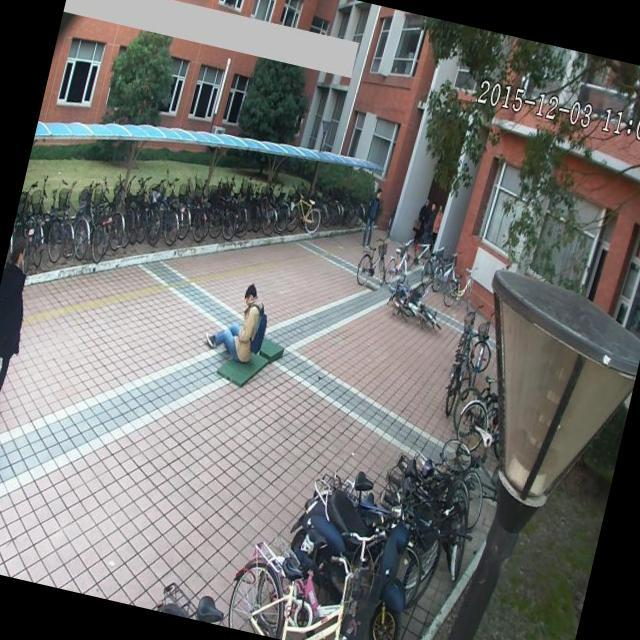person: (0, 229, 45, 426), (203, 273, 276, 372), (354, 180, 388, 252)
